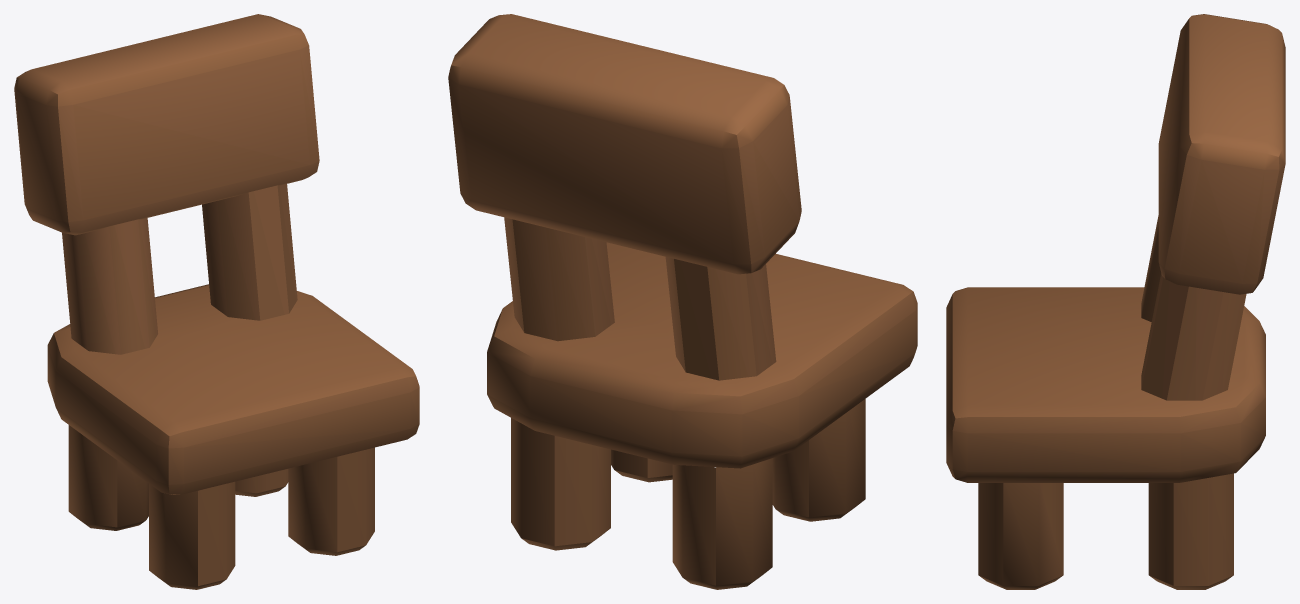
File: kaykit_restaurant_chair_b.glb
The picture shows the model from 3 angles, left to right: view 1: azimuth 30°, elevation 25°; view 2: azimuth 150°, elevation 25°; view 3: azimuth 270°, elevation 25°; orthographic projection. The views are drawn at different scales.
Parts seen in each view (by area): view 1: wood; view 2: wood; view 3: wood.
Part boxes in pixels (x1,y1,x2,y2): wood: (14,14,419,589); wood: (448,14,917,589); wood: (946,14,1285,589).
Bounding box in the file's own units: 0.75 × 1.21 × 0.7962.
